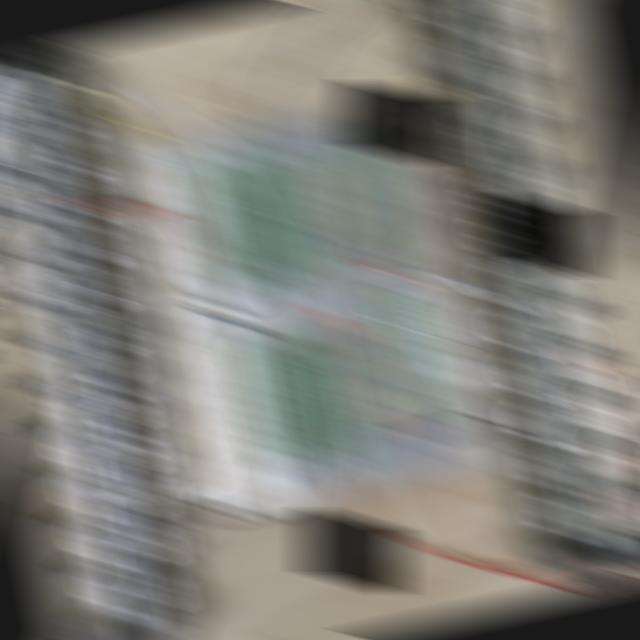Flathead_Block: (428, 0, 640, 588)
Phillips_Block: (0, 45, 178, 640)
Terminal_1: (374, 285, 447, 426), (338, 123, 410, 260)
Terminal_2: (266, 335, 336, 469), (302, 327, 371, 460), (264, 143, 333, 273), (228, 152, 295, 282), (191, 161, 258, 291)
